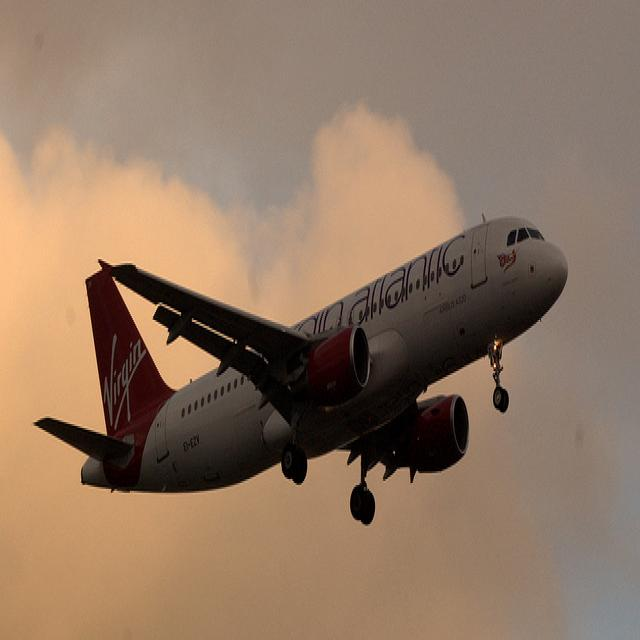airplane: (32, 213, 570, 528)
